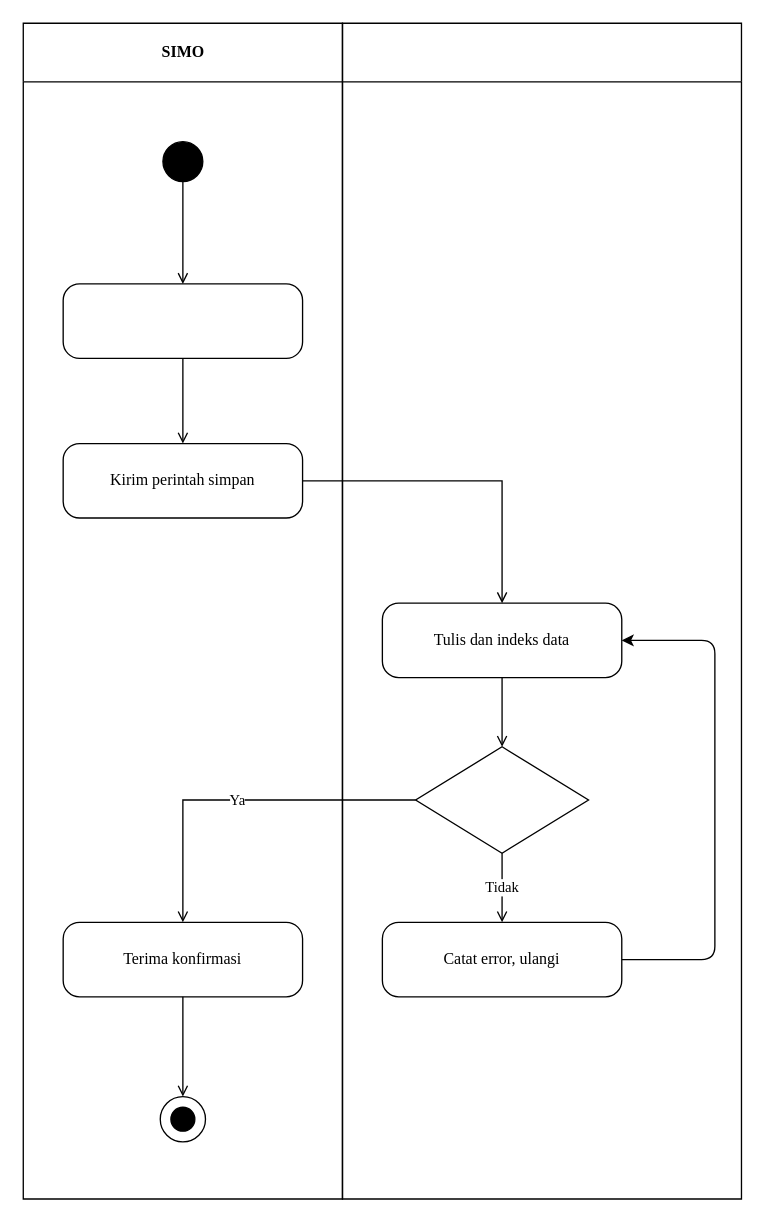
Some shapes in this 765 by 1222 pixel diagram are drawn without their labels. Each missing label, with the box of its shape:
Basis Data: (341, 22, 741, 1199)
Berhasil?: (414, 745, 589, 853)
Siapkan data master: (62, 283, 303, 358)
